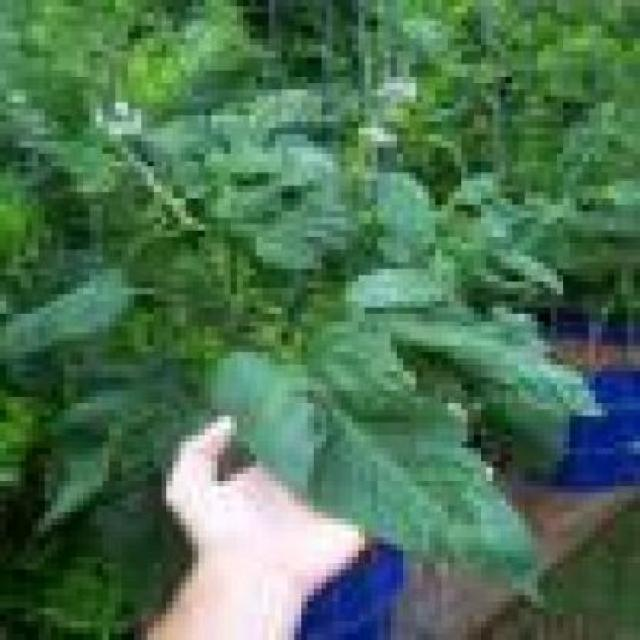Tomato leaf bacterial spot: (232, 347, 552, 603), (398, 315, 609, 422), (7, 283, 129, 354), (366, 174, 437, 277), (244, 206, 347, 264), (21, 129, 123, 187), (335, 276, 456, 315), (443, 173, 507, 206)
